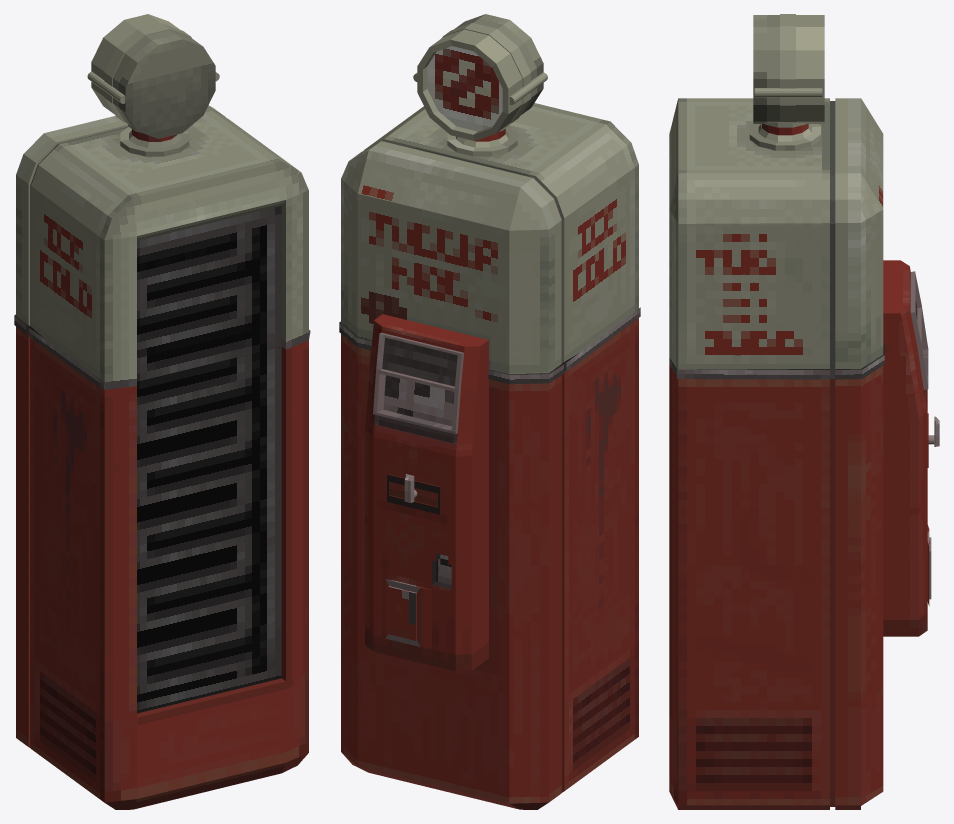
The model's file is psx_jug.glb.
3 views of the same model, side by side, from view 1: azimuth 30°, elevation 25°; view 2: azimuth 150°, elevation 25°; view 3: azimuth 270°, elevation 25° (orthographic). The views are drawn at different scales.
Parts seen in each view (by area): view 1: body_5, cylinder_2, cylinder_3; view 2: body_5, cube_6, cylinder_2, cylinder_3; view 3: body_5, cube_6, cylinder_2, cylinder_3, cylinder_1.
Part boxes in pixels (x1,y1,x2,y2): body_5: (14, 105, 310, 809); cylinder_2: (91, 14, 215, 138); cylinder_3: (120, 124, 189, 156); body_5: (339, 103, 640, 809); cube_6: (365, 314, 488, 671); cylinder_2: (417, 14, 543, 140); cylinder_3: (447, 124, 517, 156); body_5: (669, 98, 884, 809); cube_6: (883, 260, 931, 636); cylinder_2: (753, 14, 824, 123); cylinder_3: (749, 122, 820, 150); cylinder_1: (754, 88, 822, 97).
Size of the model in its own units: 0.8734 by 2.89 by 0.9469.
1 material, 1 textured.
